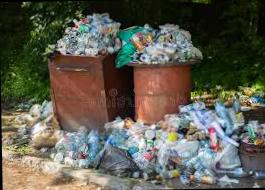trash: (50, 93, 265, 183), (46, 10, 122, 59), (122, 17, 196, 64), (13, 94, 54, 158)
trash_can_overflow: (118, 7, 204, 138), (48, 6, 122, 138)
